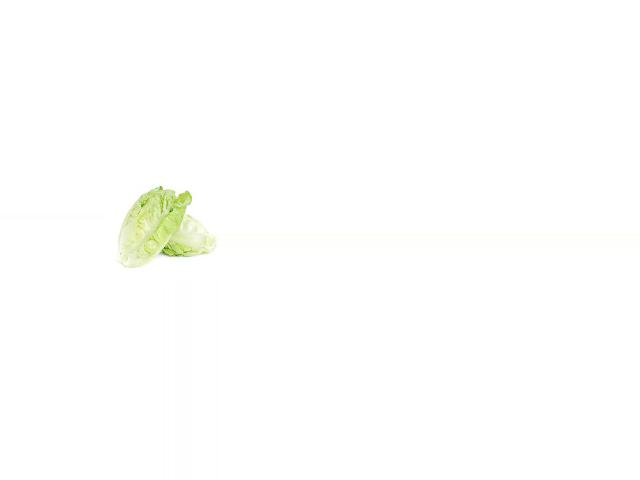lettuce: (160, 211, 218, 261)
